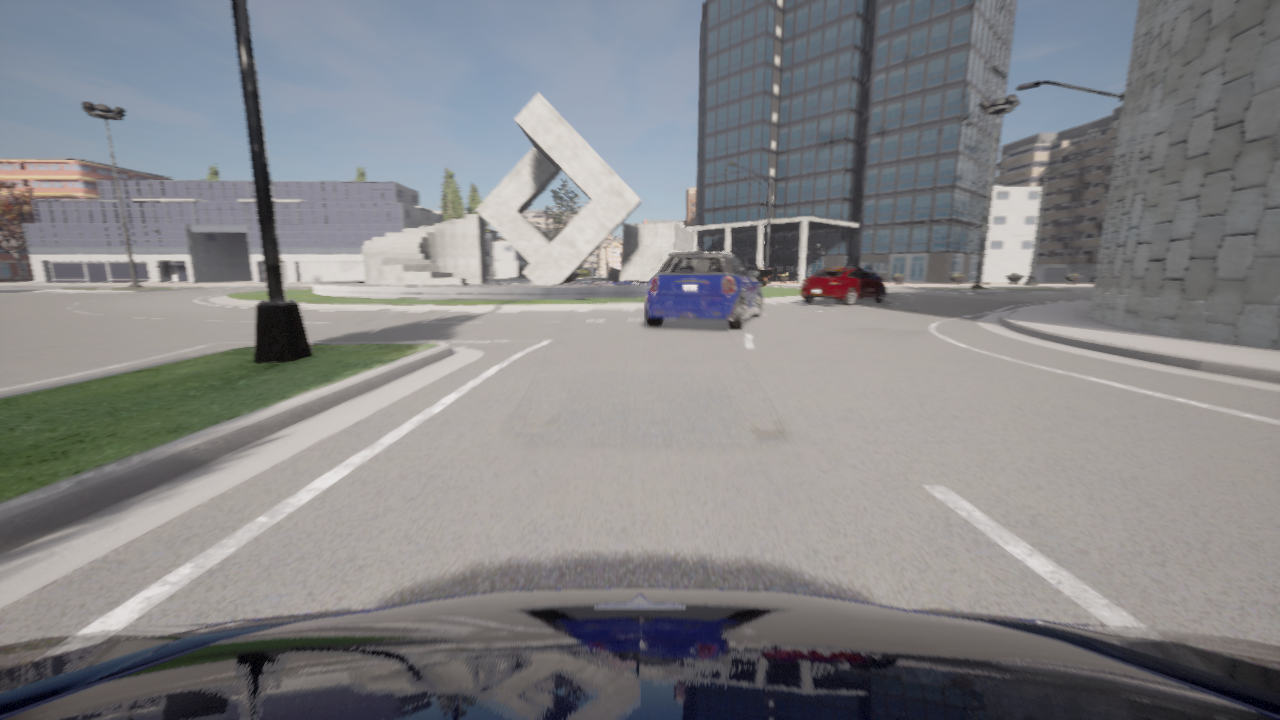cyclist: (0, 588, 1279, 719), (645, 247, 762, 330), (801, 267, 885, 305), (743, 264, 773, 286), (862, 269, 882, 282)
